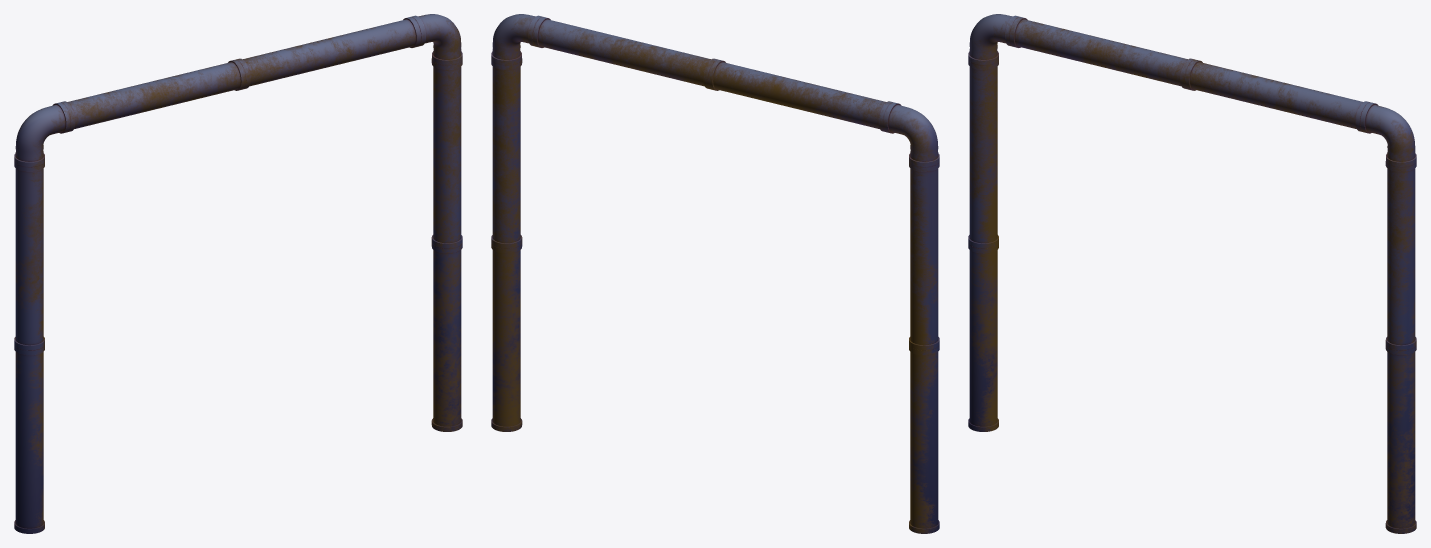
The model's file is Pipe10.glb.
3 renders of one model, left to right at view 1: azimuth 30°, elevation 25°; view 2: azimuth 150°, elevation 25°; view 3: azimuth 330°, elevation 25°, orthographic.
Visible parts, largest first — view 1: Pipe12; view 2: Pipe12; view 3: Pipe12.
Boxes of the visible parts, box(x1,y1,x2,y2) form: Pipe12: box(14, 14, 462, 533); Pipe12: box(491, 14, 939, 533); Pipe12: box(968, 14, 1416, 533).
Bounding box in the file's own units: 13.39 × 11.97 × 0.8077.
Materials: 1 (1 with a texture image).
